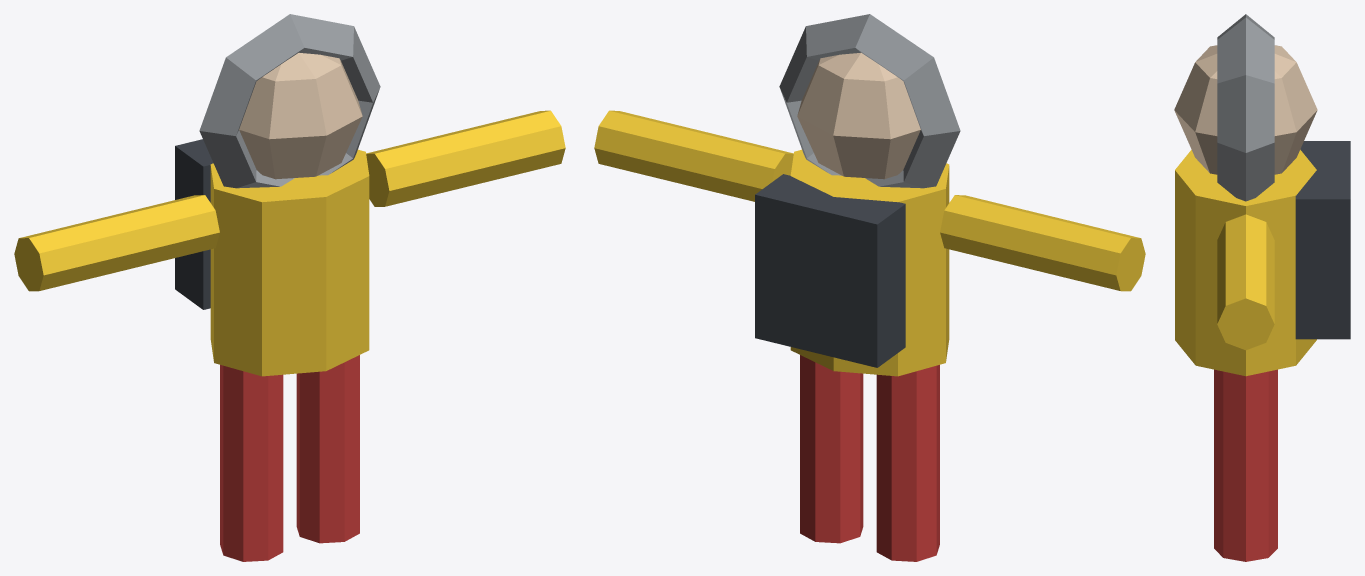
File: kid.glb
The picture shows the model from 3 angles, left to right: view 1: azimuth 30°, elevation 25°; view 2: azimuth 150°, elevation 25°; view 3: azimuth 270°, elevation 25°; orthographic projection. The views are drawn at different scales.
Parts seen in each view (by area): view 1: kid; view 2: kid; view 3: kid.
Part boxes in pixels (box(x1,y1,x2,y2)): kid: box(14, 14, 565, 561); kid: box(594, 14, 1145, 561); kid: box(1174, 14, 1350, 561).
Size of the model in its own units: 1.14 by 1.1 by 0.3434.
